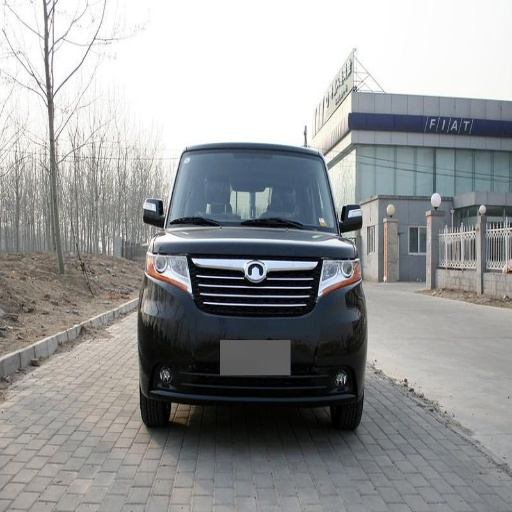front_bumper: (141, 254, 361, 405)
front_right_light: (149, 245, 189, 287)
hood: (159, 225, 347, 255)
